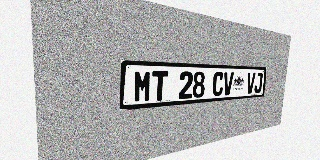2: (179, 71, 193, 99)
8: (192, 71, 206, 98)
C: (212, 72, 224, 96)
J: (254, 73, 263, 93)
M: (133, 70, 152, 103)
T: (151, 71, 168, 101)
V: (222, 72, 234, 96), (246, 72, 255, 94)
